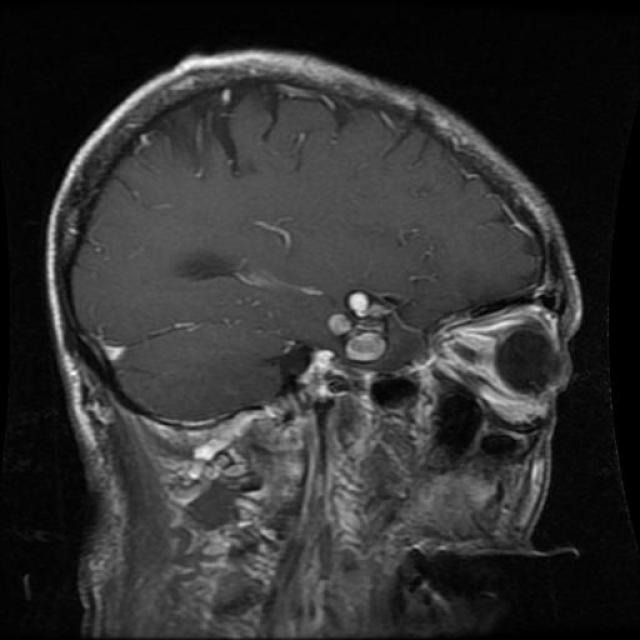glioma: (155, 192, 320, 338)
